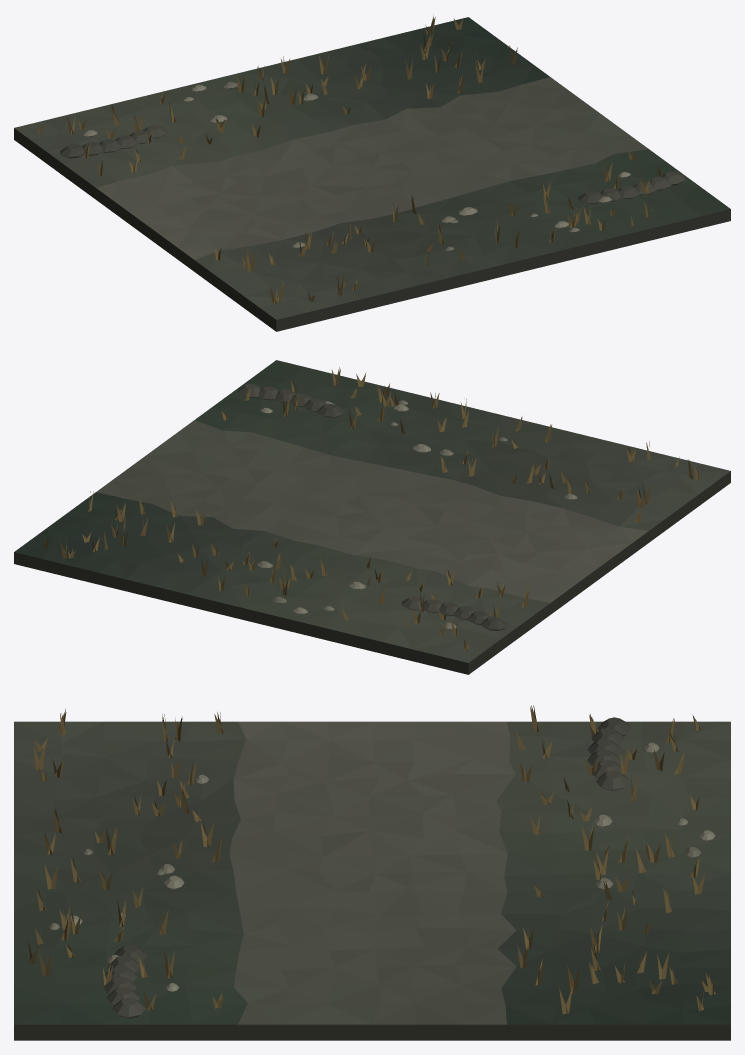
The model's file is CHUNK_TRANS_ash_grassland__dark_canopy_forest__1.glb.
3 renders of one model, top to bottom at view 1: azimuth 30°, elevation 25°; view 2: azimuth 150°, elevation 25°; view 3: azimuth 270°, elevation 25°, orthographic. The views are drawn at different scales.
Visible parts, largest first — view 1: CHUNK_TRANS_ash_grassland__dark_canopy_forest__1; view 2: CHUNK_TRANS_ash_grassland__dark_canopy_forest__1; view 3: CHUNK_TRANS_ash_grassland__dark_canopy_forest__1.
Boxes of the visible parts, box(x1,y1,x2,y2) form: CHUNK_TRANS_ash_grassland__dark_canopy_forest__1: box(14, 14, 730, 331); CHUNK_TRANS_ash_grassland__dark_canopy_forest__1: box(14, 360, 730, 674); CHUNK_TRANS_ash_grassland__dark_canopy_forest__1: box(14, 705, 730, 1040).
Size of the model in its own units: 8 by 0.569 by 8.
